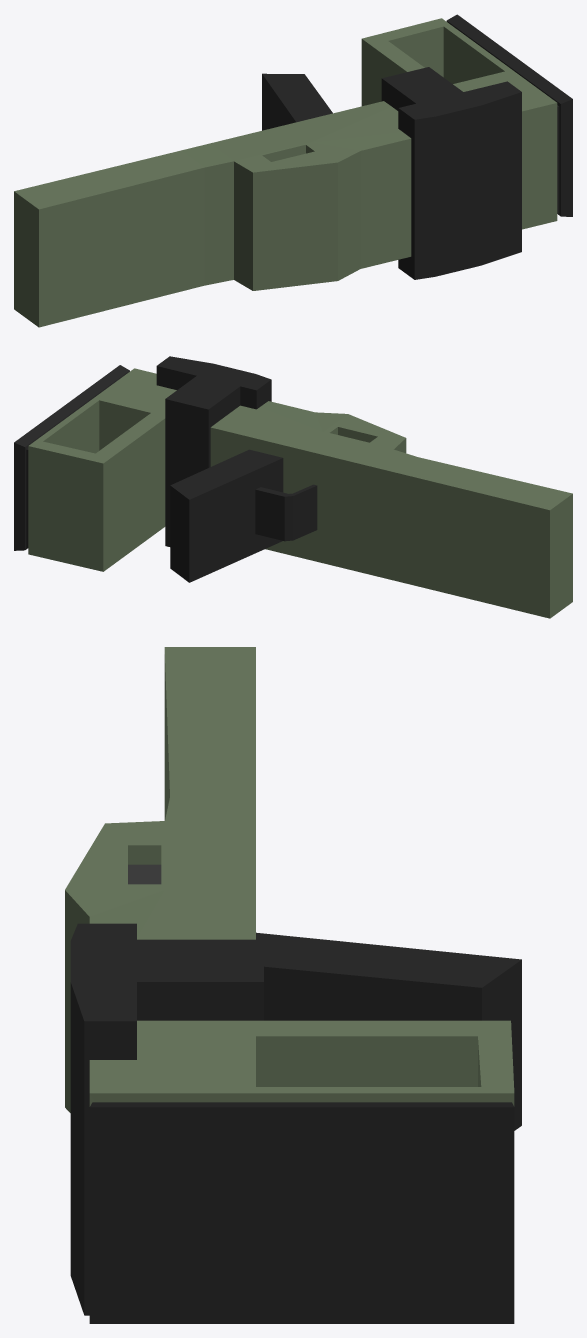
File: sniper_body_authored.obj
The picture shows the model from 3 angles, top to bottom: view 1: azimuth 30°, elevation 25°; view 2: azimuth 150°, elevation 25°; view 3: azimuth 270°, elevation 25°; orthographic projection. The views are drawn at different scales.
Visible parts, largest first — view 1: Body; view 2: Body; view 3: Body.
Part boxes in pixels (x1,y1,x2,y2): Body: [14, 14, 572, 327]; Body: [14, 356, 572, 618]; Body: [65, 647, 521, 1323].
Size of the model in its own units: 8.12 by 2.42 by 3.41.
Materials: 1 (1 with a texture image).
